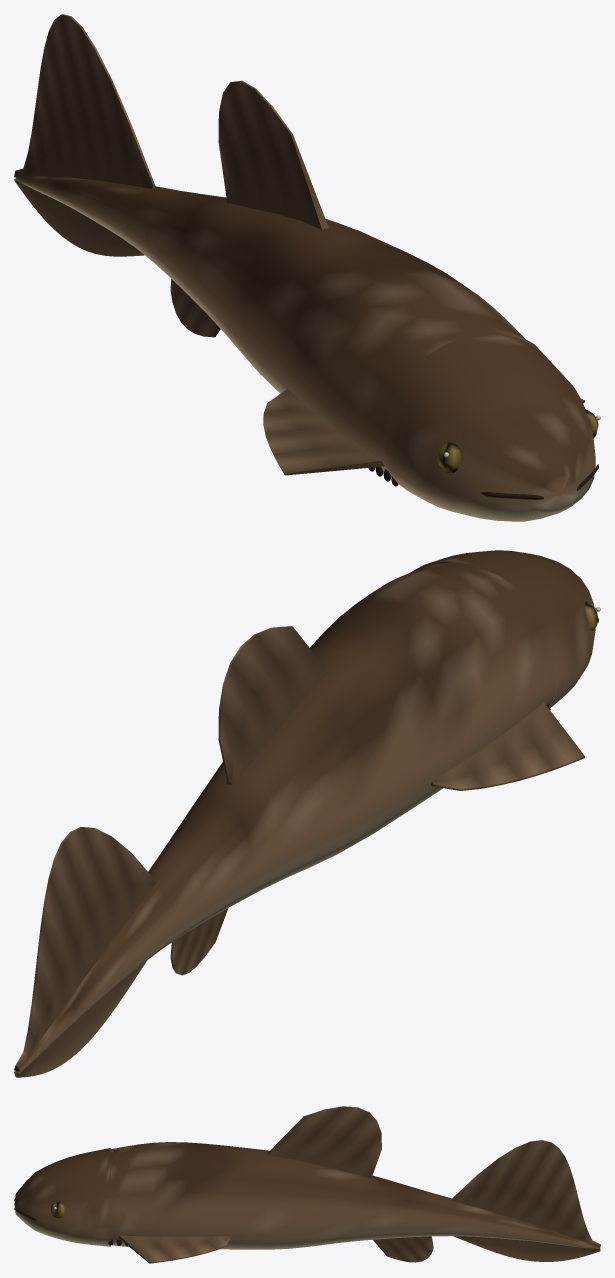
File: PhlebolepisElegans.fbx
3 renders of one model, top to bottom at view 1: azimuth 30°, elevation 25°; view 2: azimuth 150°, elevation 25°; view 3: azimuth 270°, elevation 25°, orthographic. The views are drawn at different scales.
Parts seen in each view (by area): view 1: PhlebolepisElegans; view 2: PhlebolepisElegans; view 3: PhlebolepisElegans.
Part boxes in pixels (box(x1,y1,x2,y2)): PhlebolepisElegans: box(14, 14, 600, 521); PhlebolepisElegans: box(14, 550, 600, 1077); PhlebolepisElegans: box(14, 1106, 600, 1263).
Size of the model in its own units: 0.5045 by 0.4636 by 1.58.
